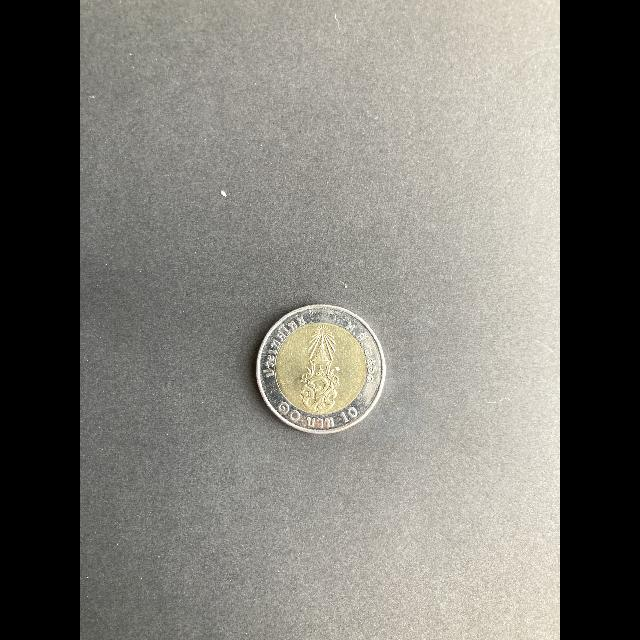10 Bath: (256, 303, 388, 434)
